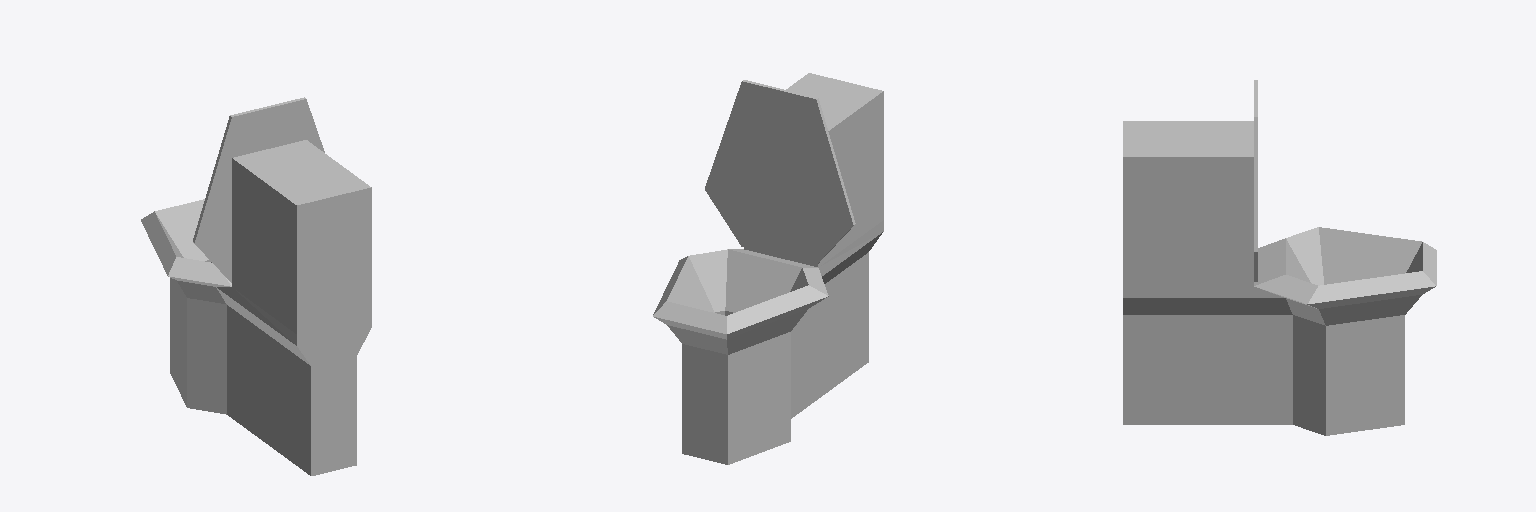
File: Toilet.obj
The picture shows the model from 3 angles: view 1: azimuth 30°, elevation 25°; view 2: azimuth 150°, elevation 25°; view 3: azimuth 270°, elevation 25°; orthographic projection.
Parts seen in each view (by area): view 1: object_1, object_3; view 2: object_1, object_3; view 3: object_1, object_3.
Part boxes in pixels (bbox=[...]): object_1: bbox=[141, 140, 371, 475]; object_3: bbox=[193, 97, 324, 282]; object_1: bbox=[653, 73, 883, 464]; object_3: bbox=[705, 80, 855, 264]; object_1: bbox=[1123, 121, 1436, 435]; object_3: bbox=[1254, 80, 1257, 281].
Bounding box in the file's own units: 39.68 × 80.16 × 72.16.